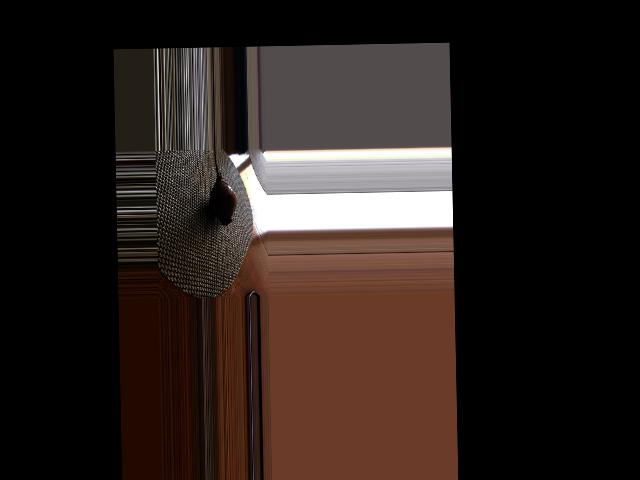beet: (208, 149, 237, 226)
